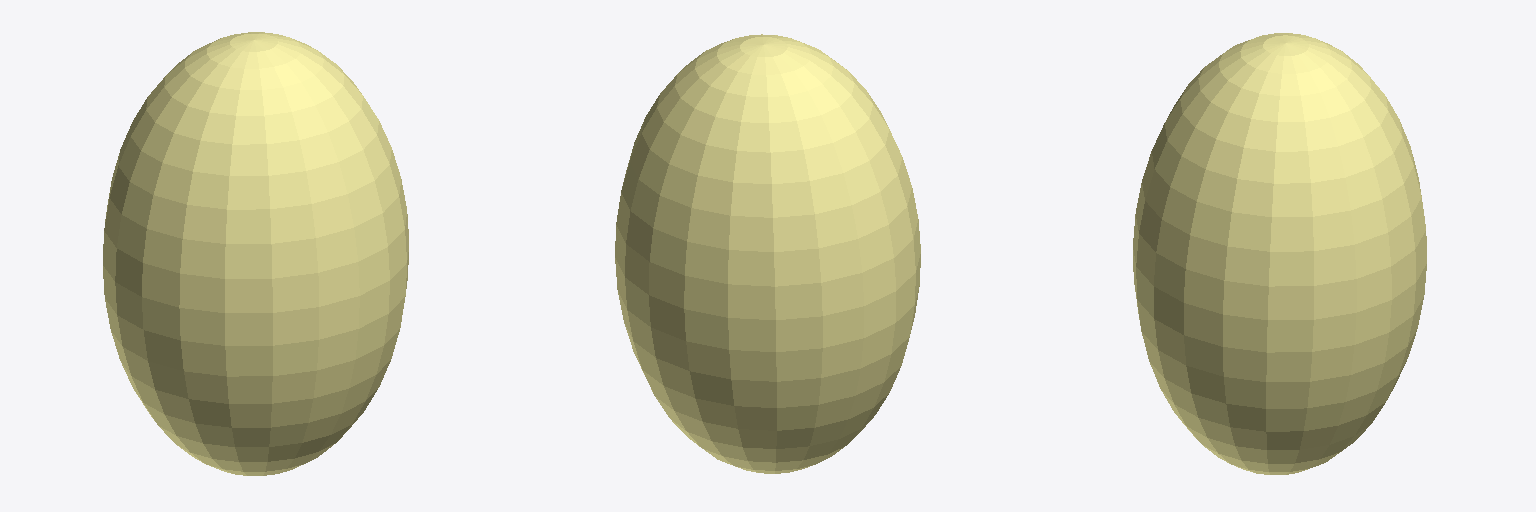
The picture shows the model from 3 angles: view 1: azimuth 30°, elevation 25°; view 2: azimuth 150°, elevation 25°; view 3: azimuth 270°, elevation 25°; orthographic projection.
Parts seen in each view (by area): view 1: pasted__pSphere2 group5 group1; view 2: pasted__pSphere2 group5 group1; view 3: pasted__pSphere2 group5 group1.
Boxes of the visible parts, <box> form: pasted__pSphere2 group5 group1: <box>103,32,408,475</box>; pasted__pSphere2 group5 group1: <box>615,34,920,473</box>; pasted__pSphere2 group5 group1: <box>1133,33,1426,474</box>.
Size of the model in its own units: 0.5923 by 0.8973 by 0.561.
Materials: 1 (1 with a texture image).